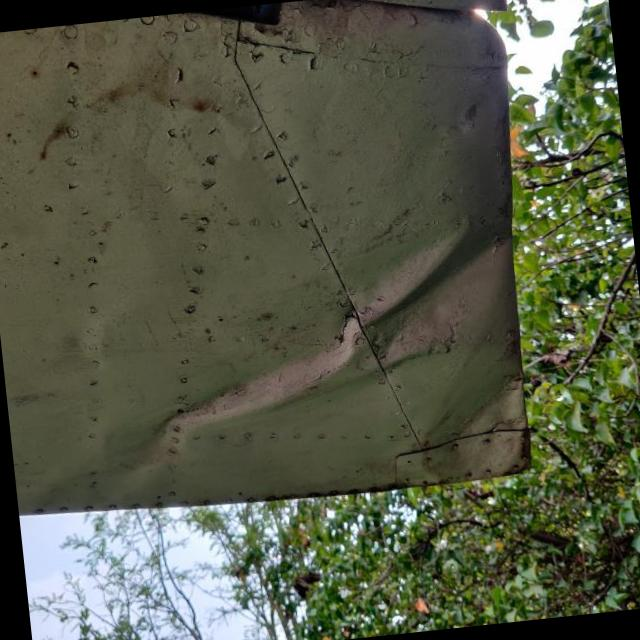Crack: (330, 305, 360, 345)
Dent: (155, 192, 523, 452), (396, 430, 531, 487)
